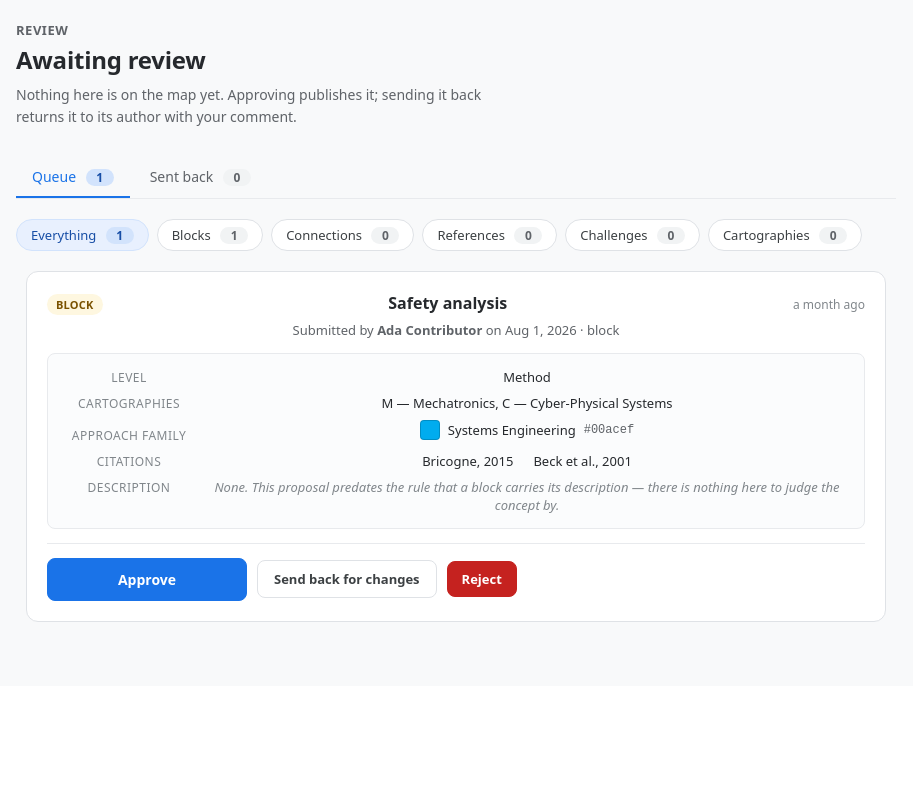
Test: the three decisions › leaves the card in place with the error when an action fails
Check: the text "Safety analysis" is shown, box [388,292,507,314]
Step 1. Click the button "Approve" → (147, 579), box [47,558,247,601]
(page scrolled)
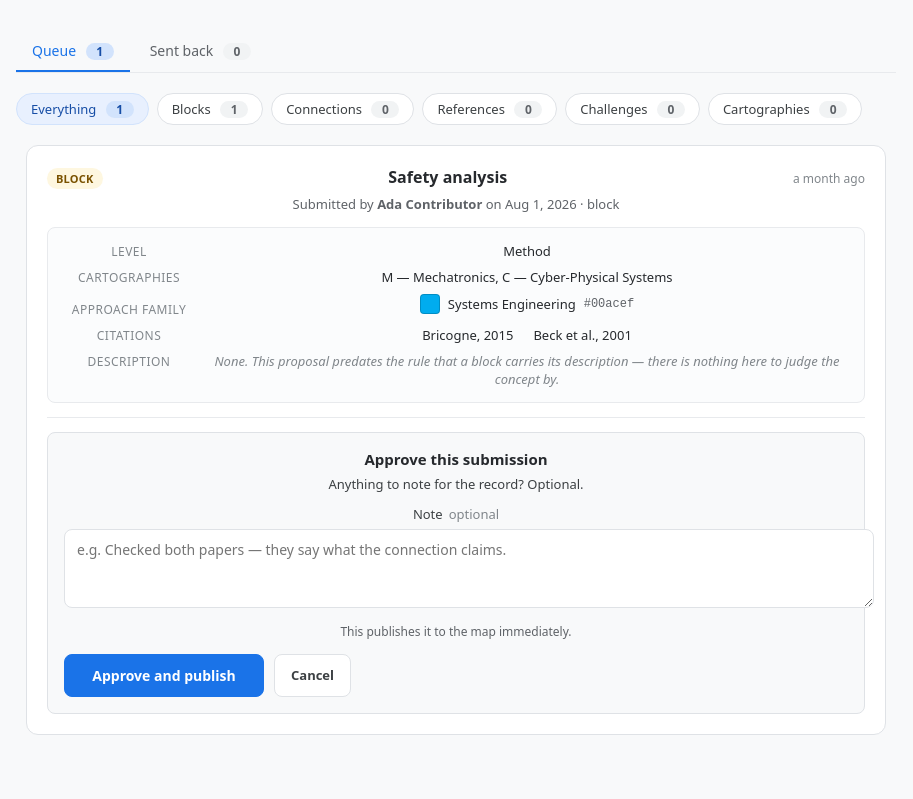
Step 2. Click the button "Approve and publish" → (164, 675), box [64,654,264,697]
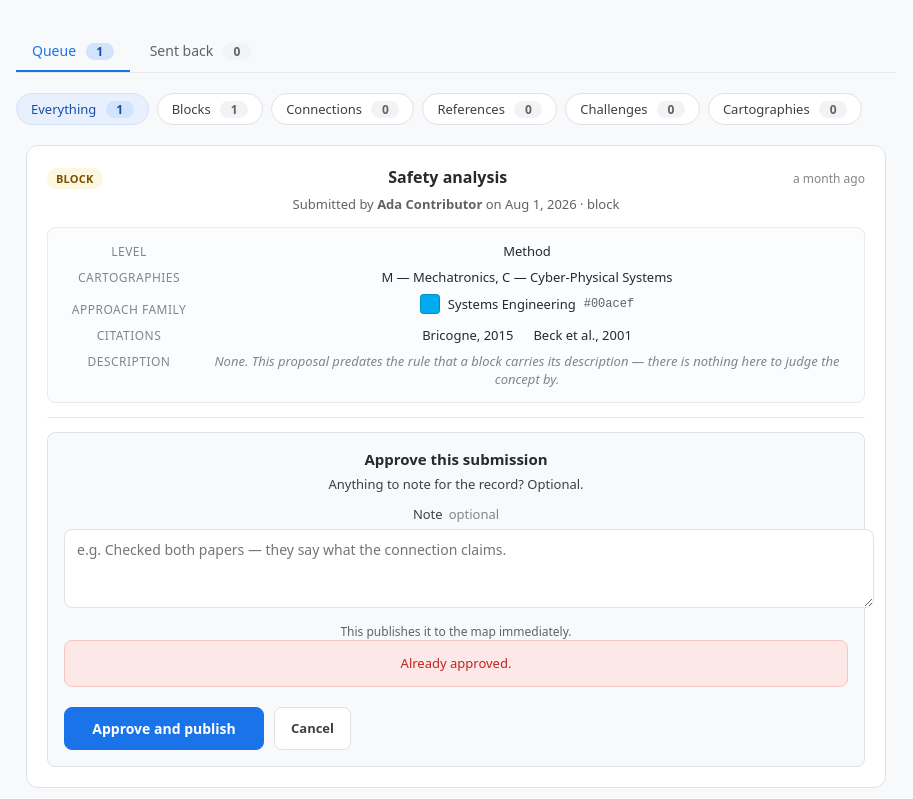
Check: the text "Safety analysis" is shown, box [388,166,507,188]
Check: the message reads "Already approved.", box [401,654,511,672]
